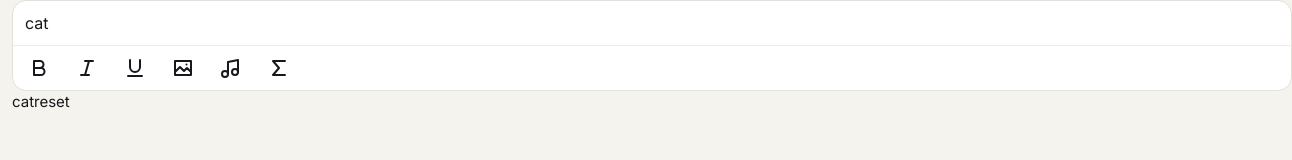
Scenario: FieldEditor › applies bold, italic and underline to the selection
Later steps or results of the test are not shown.
Click the field named "Frente": (37, 23) [25,13,48,33]
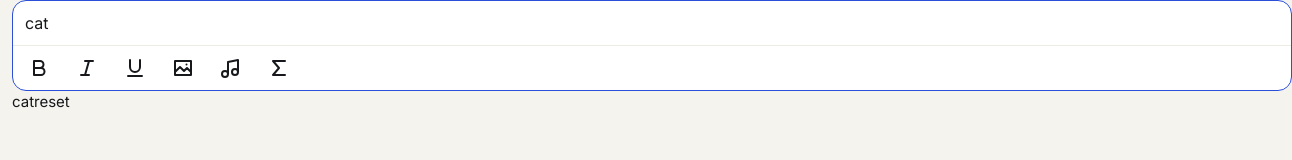
Type keys "{Control>}a{/Control}"
Click the button named "Negrito": (39, 68) [17,46,61,90]
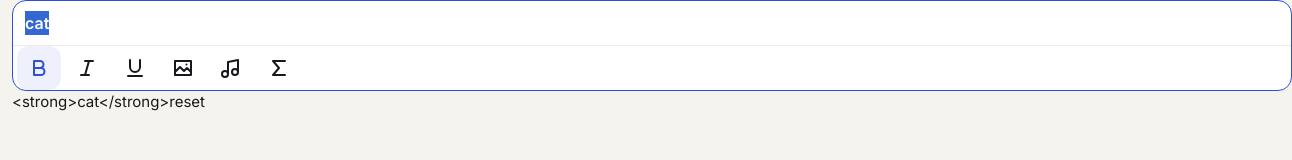
Expected: the button named "Negrito" is pressed, [17,46,61,90]
